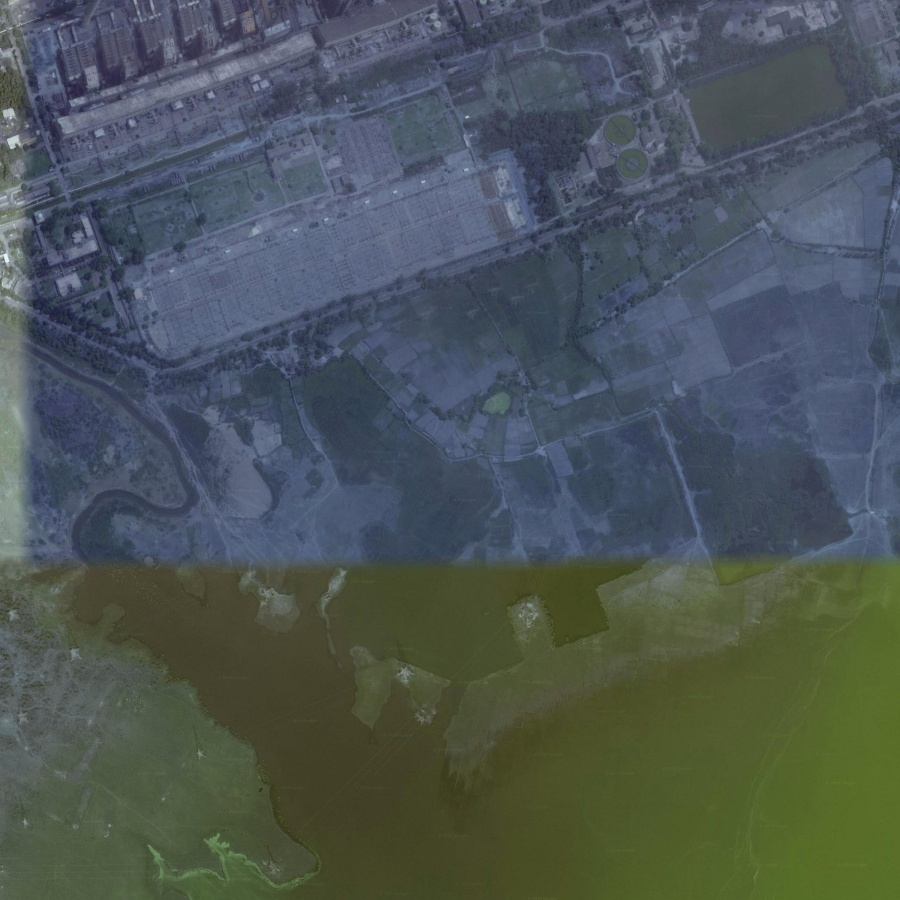PowerPlant: (674, 22, 856, 170)
